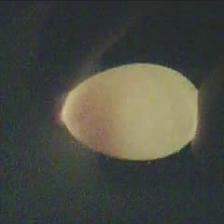infertile: (57, 59, 202, 163)
